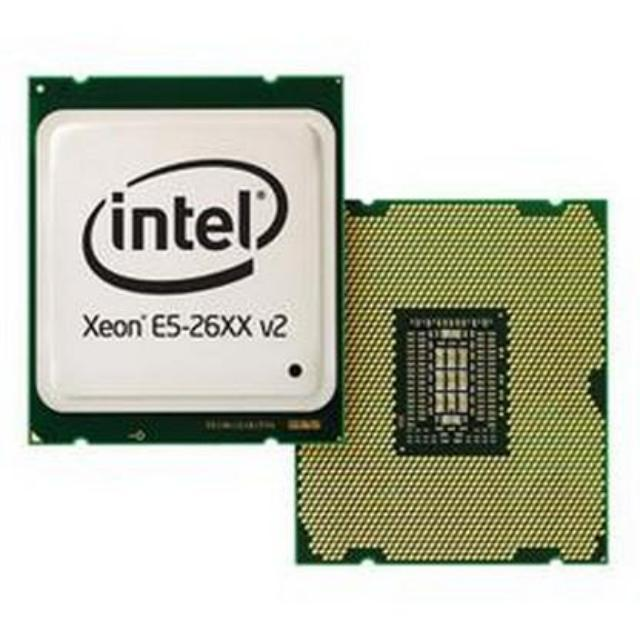CPU: (288, 194, 610, 577), (21, 74, 344, 452)
